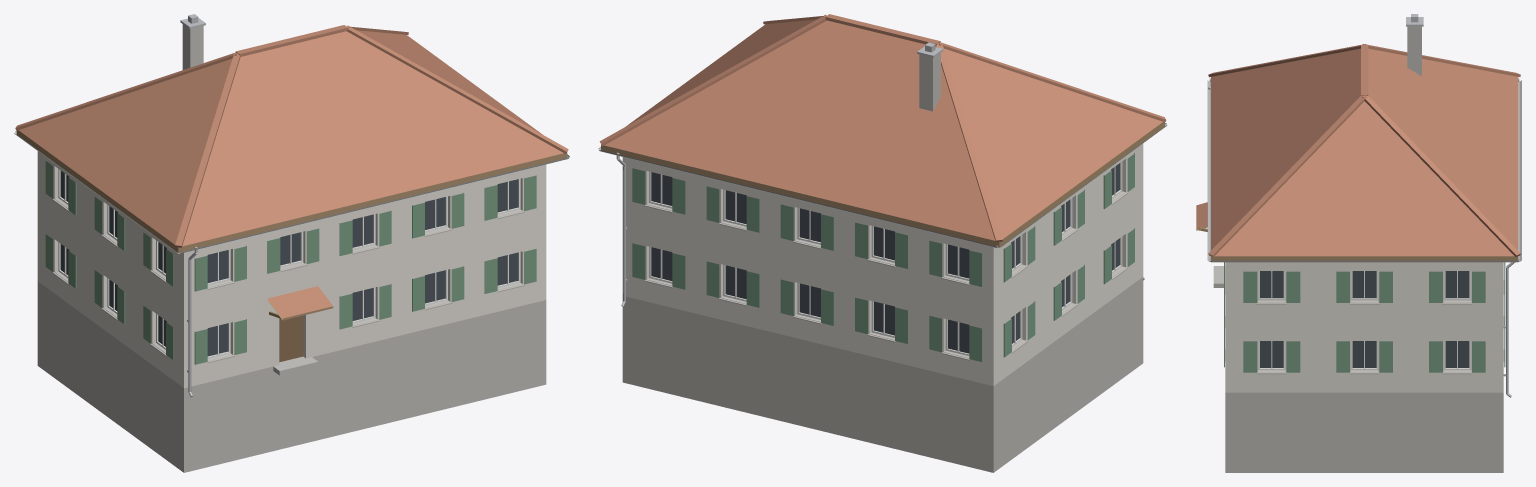
File: french_house_2_l.glb
3 views of the same model, side by side, from view 1: azimuth 30°, elevation 25°; view 2: azimuth 150°, elevation 25°; view 3: azimuth 270°, elevation 25° (orthographic). The views are drawn at different scales.
Parts seen in each view (by area): view 1: french_house_2_l; view 2: french_house_2_l; view 3: french_house_2_l.
Boxes of the visible parts, x1=… form: french_house_2_l: x1=14, y1=14, x2=569, y2=472; french_house_2_l: x1=598, y1=14, x2=1167, y2=472; french_house_2_l: x1=1196, y1=14, x2=1521, y2=472.
Bounding box in the file's own units: 16.3 × 14.14 × 12.28.
